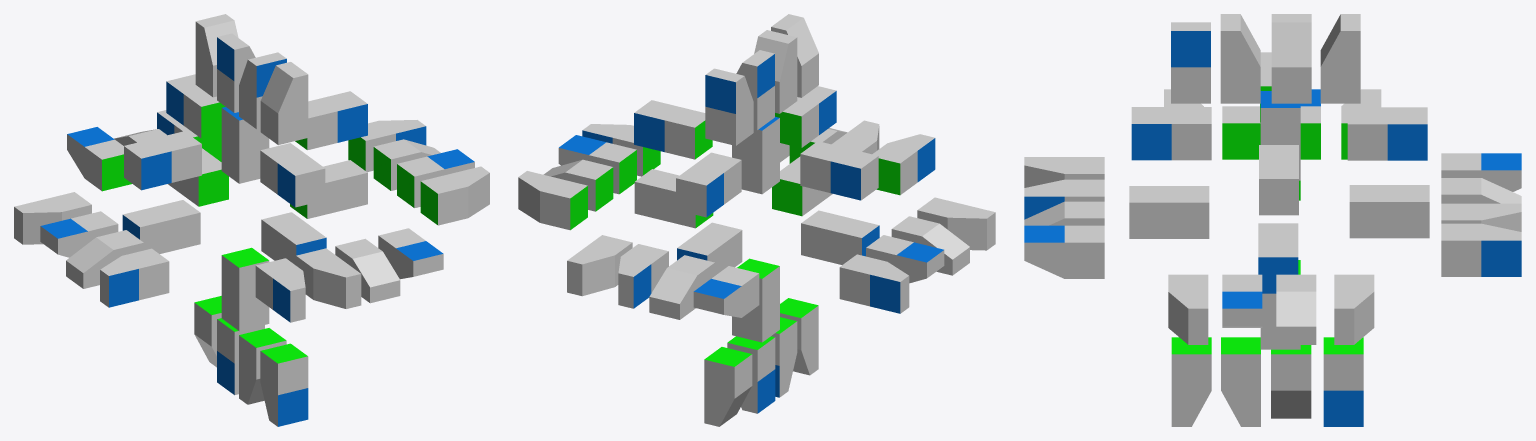
Rendered from sections.fbx.
3 views of the same model, side by side, from view 1: azimuth 30°, elevation 25°; view 2: azimuth 150°, elevation 25°; view 3: azimuth 270°, elevation 25° (orthographic). The views are drawn at different scales.
Visible parts, largest first — view 1: Cube.032, ds, ue, en, ws, Cube.031, dd, ww, Cube.029, se, nu, uu (+21 smaller); view 2: Cube.032, Cube.029, un, wn, Cube.028, es, de, ww, sw, ne, nd, nu (+21 smaller); view 3: Cube.028, Cube.031, nn, ss, ne, su, uw, de, us, un, ue, dn (+20 smaller).
Boxes of the visible parts, left/top/right/bottom form: Cube.032: left=124, top=131, right=201, bottom=190; ds: left=260, top=343, right=308, bottom=426; ue: left=260, top=62, right=308, bottom=144; en: left=420, top=166, right=489, bottom=225; ws: left=100, top=248, right=169, bottom=307; Cube.031: left=260, top=143, right=325, bottom=207; dd: left=221, top=247, right=269, bottom=330; ww: left=122, top=200, right=200, bottom=253; Cube.029: left=295, top=91, right=367, bottom=150; se: left=296, top=248, right=361, bottom=308; nu: left=67, top=127, right=131, bottom=191; uu: left=221, top=107, right=269, bottom=183; Cube.032: left=800, top=141, right=878, bottom=200; Cube.029: left=634, top=100, right=712, bottom=159; un: left=705, top=68, right=753, bottom=145; wn: left=839, top=254, right=909, bottom=313; Cube.028: left=676, top=152, right=741, bottom=217; es: left=518, top=171, right=587, bottom=230; de: left=704, top=347, right=752, bottom=426; ww: left=801, top=210, right=879, bottom=264; sw: left=872, top=134, right=935, bottom=195; ne: left=567, top=235, right=632, bottom=296; nd: left=649, top=255, right=714, bottom=319; nu: left=693, top=266, right=759, bottom=317; Cube.028: left=1347, top=107, right=1427, bottom=160; Cube.031: left=1131, top=107, right=1211, bottom=160; nn: left=1349, top=185, right=1429, bottom=238; ss: left=1129, top=186, right=1209, bottom=238; ne: left=1441, top=223, right=1521, bottom=276; su: left=1024, top=225, right=1104, bottom=278; uw: left=1271, top=14, right=1311, bottom=103; de: left=1323, top=337, right=1363, bottom=426; us: left=1220, top=14, right=1260, bottom=103; un: left=1320, top=14, right=1360, bottom=103; ue: left=1171, top=22, right=1210, bottom=103; dn: left=1221, top=337, right=1260, bottom=426.
Bounding box in the file's own units: 2589 × 2182 × 2481.
